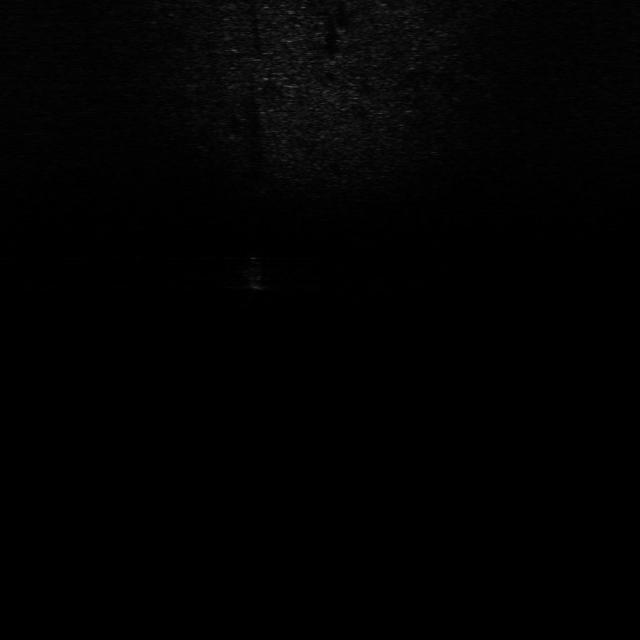human body: (230, 245, 270, 303)
